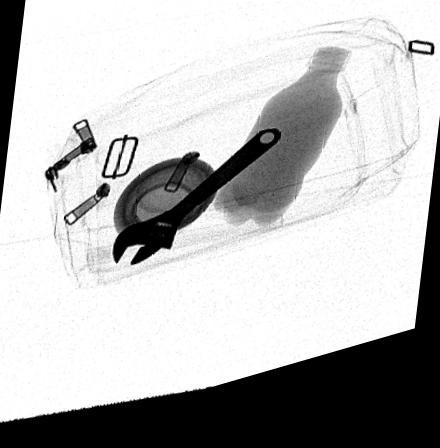Wrench: (111, 142, 283, 274)
